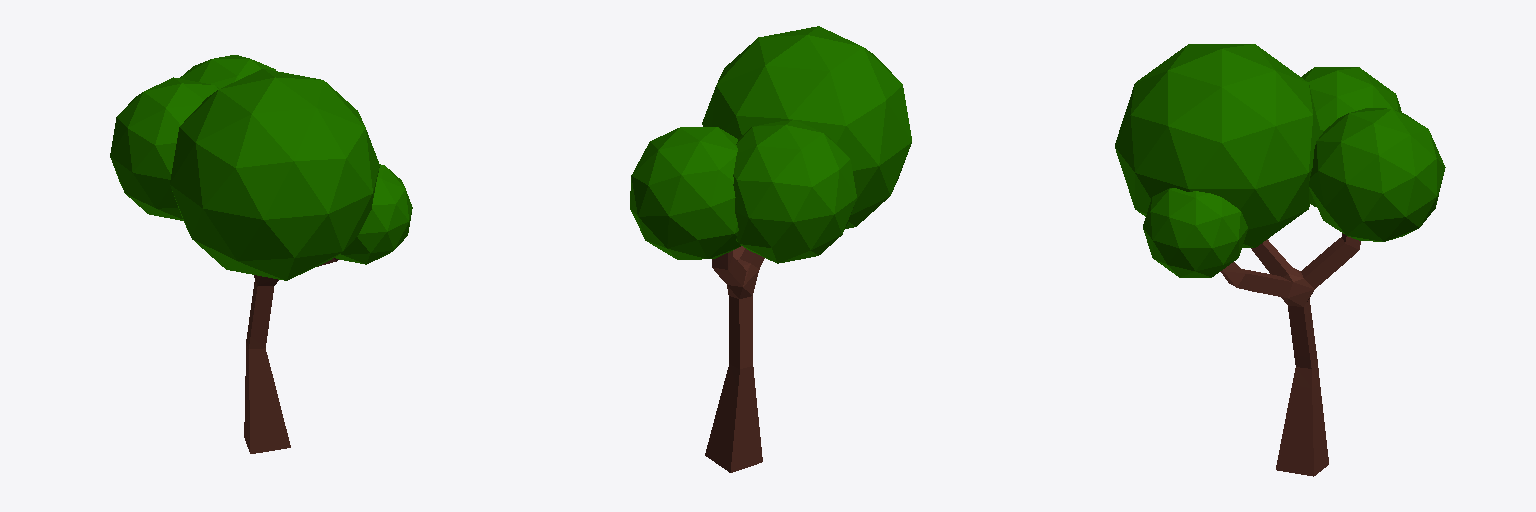
3 views of the same model, side by side, from view 1: azimuth 30°, elevation 25°; view 2: azimuth 150°, elevation 25°; view 3: azimuth 270°, elevation 25° (orthographic).
Parts seen in each view (by area): view 1: Icosphere.003, Icosphere.001, Cube, Icosphere, Icosphere.002; view 2: Icosphere.003, Icosphere.001, Icosphere.002, Cube; view 3: Icosphere.003, Icosphere.002, Cube, Icosphere, Icosphere.001.
Boxes of the visible parts, x1=… form: Icosphere.003: x1=170, y1=69, x2=379, y2=280; Icosphere.001: x1=110, y1=77, x2=218, y2=220; Cube: x1=244, y1=258, x2=338, y2=453; Icosphere: x1=335, y1=164, x2=412, y2=264; Icosphere.002: x1=180, y1=55, x2=275, y2=88; Icosphere.003: x1=702, y1=26, x2=911, y2=228; Icosphere.001: x1=733, y1=120, x2=856, y2=263; Icosphere.002: x1=630, y1=127, x2=740, y2=259; Cube: x1=705, y1=246, x2=764, y2=472; Icosphere.003: x1=1115, y1=44, x2=1319, y2=247; Icosphere.002: x1=1309, y1=108, x2=1445, y2=241; Cube: x1=1220, y1=233, x2=1360, y2=476; Icosphere: x1=1143, y1=188, x2=1247, y2=277; Icosphere.001: x1=1301, y1=67, x2=1401, y2=206.
Bounding box in the file's own units: 2.95 × 5.37 × 3.98.
Materials: 5 (5 with a texture image).